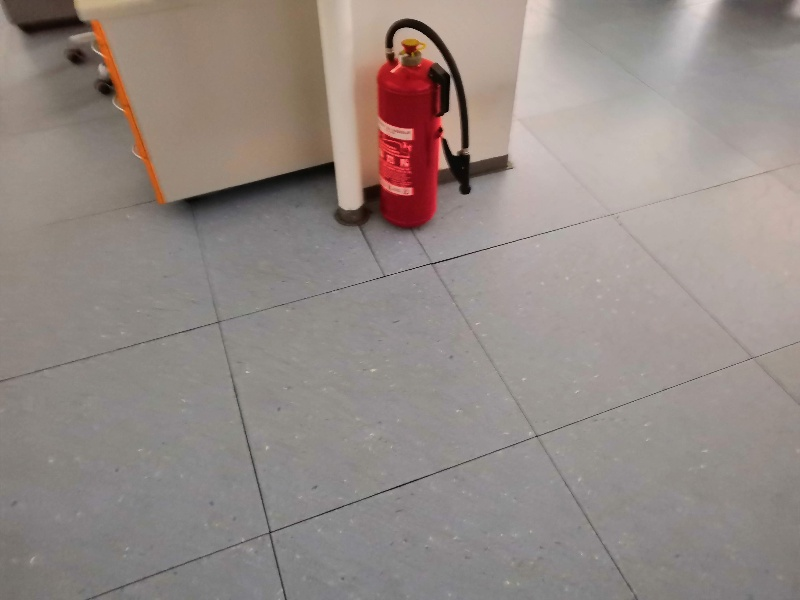vataparat: (376, 18, 470, 226)
